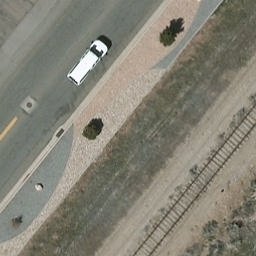car: (68, 38, 107, 86)
